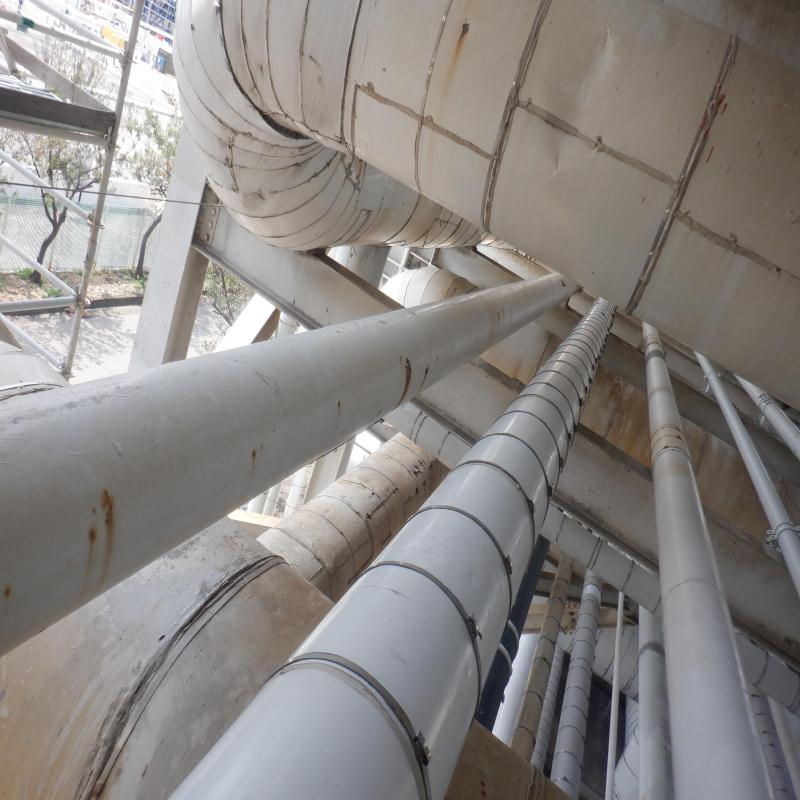Dent: (546, 22, 615, 168)
corrosion: (96, 492, 118, 561), (400, 359, 418, 405), (457, 21, 474, 46)
